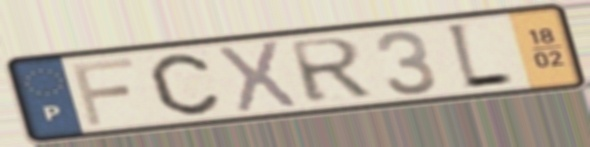3: (373, 28, 439, 97)
C: (146, 51, 223, 117)
F: (67, 56, 138, 128)
L: (441, 20, 518, 94)
R: (284, 35, 377, 106)
X: (213, 38, 301, 115)
